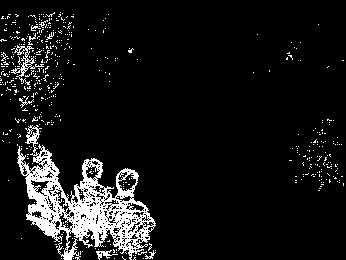person: (21, 149, 82, 260), (101, 166, 158, 260), (65, 157, 117, 260)
